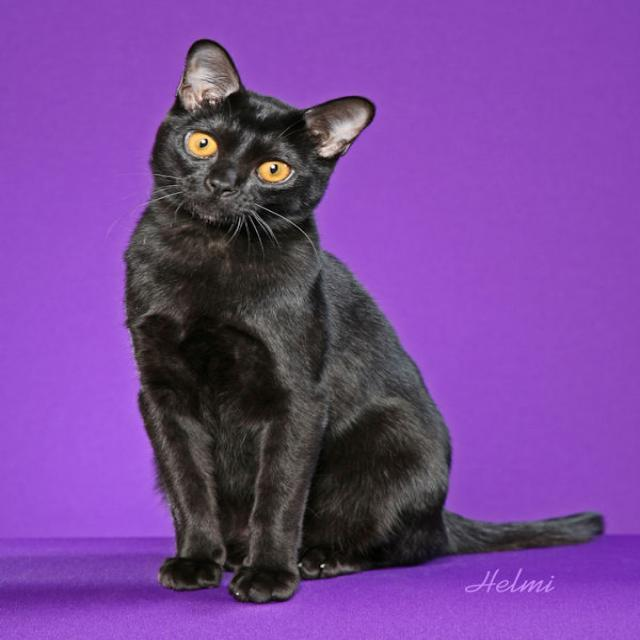Bombay: (140, 39, 377, 236)
